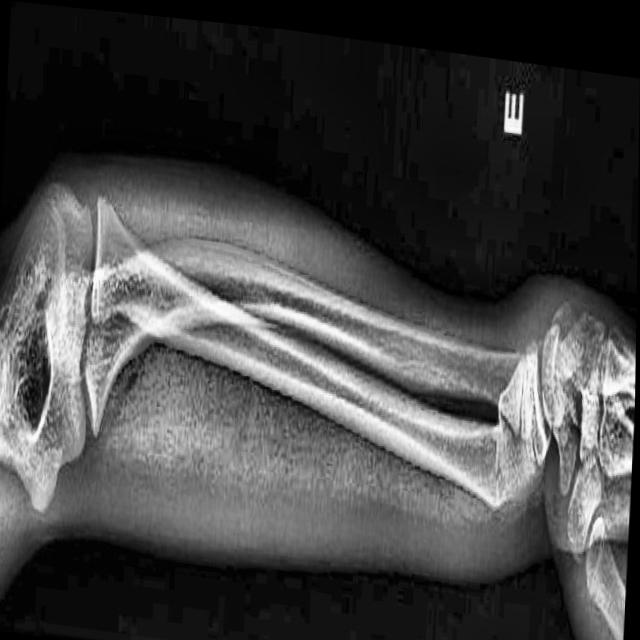fracture: (489, 372, 512, 513)
